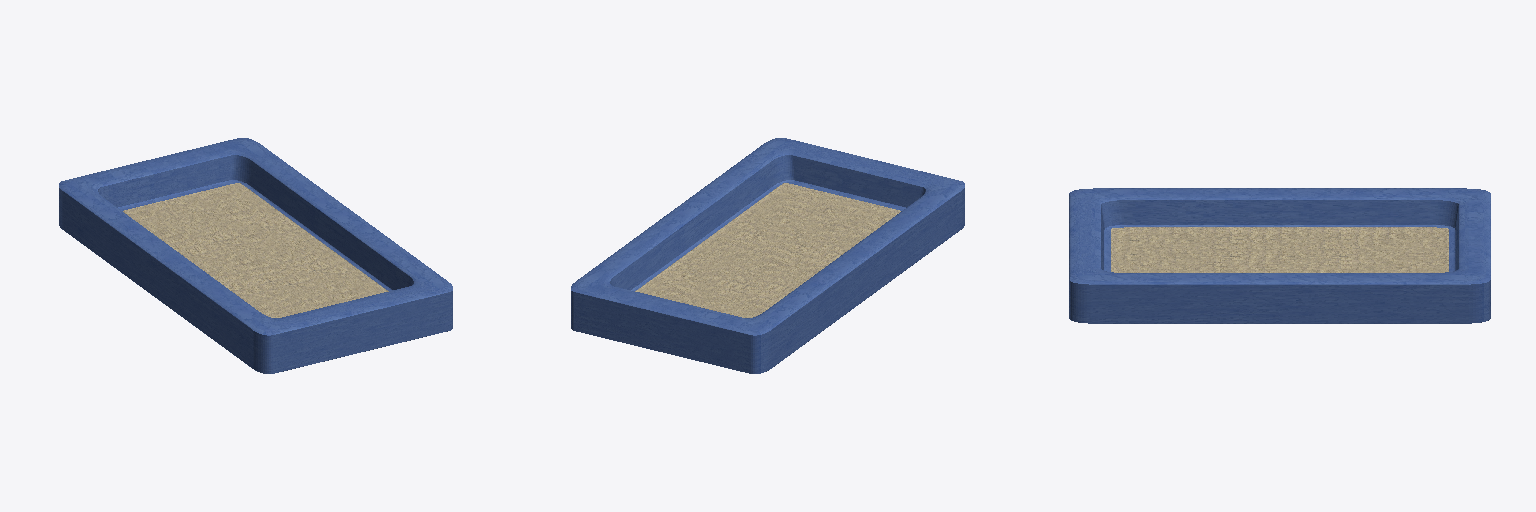
3 renders of one model, left to right at view 1: azimuth 30°, elevation 25°; view 2: azimuth 150°, elevation 25°; view 3: azimuth 270°, elevation 25°, orthographic.
Parts seen in each view (by area): view 1: Cube_Cube.001; view 2: Cube_Cube.001; view 3: Cube_Cube.001.
Boxes of the visible parts, x1=… form: Cube_Cube.001: x1=59, y1=138, x2=452, y2=373; Cube_Cube.001: x1=571, y1=138, x2=964, y2=373; Cube_Cube.001: x1=1069, y1=188, x2=1490, y2=323.
Bounding box in the file's own units: 2 × 0.411 × 3.72.
Materials: 2 (2 with a texture image).